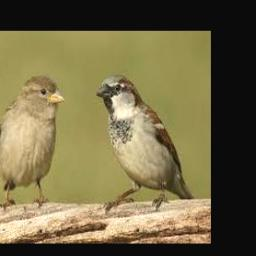Sparrow: (97, 75, 196, 210), (0, 76, 66, 212)
